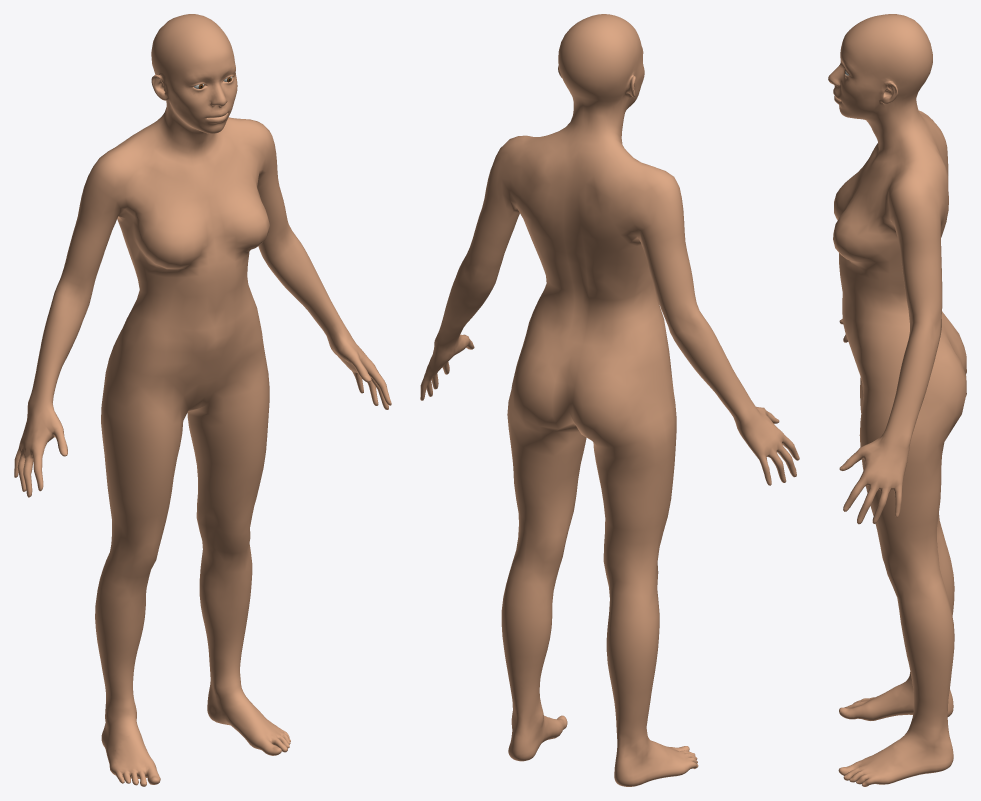
File: bodyFemale-realistic.glb
3 renders of one model, left to right at view 1: azimuth 30°, elevation 25°; view 2: azimuth 150°, elevation 25°; view 3: azimuth 270°, elevation 25°, orthographic.
Visible parts, largest first — view 1: GEO-body_female_realistic-torso, GEO-body_female_realistic-left_leg, GEO-body_female_realistic-right_leg, GEO-body_female_realistic-right_arm, GEO-body_female_realistic-head, GEO-body_female_realistic-left_arm; view 2: GEO-body_female_realistic-torso, GEO-body_female_realistic-right_leg, GEO-body_female_realistic-left_leg, GEO-body_female_realistic-right_arm, GEO-body_female_realistic-head, GEO-body_female_realistic-left_arm; view 3: GEO-body_female_realistic-torso, GEO-body_female_realistic-left_leg, GEO-body_female_realistic-left_arm, GEO-body_female_realistic-head, GEO-body_female_realistic-right_leg.
Part boxes in pixels (<box>): GEO-body_female_realistic-torso: <box>90,108,273,430</box>; GEO-body_female_realistic-left_leg: <box>187,387,290,755</box>; GEO-body_female_realistic-right_leg: <box>95,406,197,786</box>; GEO-body_female_realistic-right_arm: <box>14,148,130,497</box>; GEO-body_female_realistic-head: <box>151,14,237,130</box>; GEO-body_female_realistic-left_arm: <box>240,118,391,409</box>; GEO-body_female_realistic-torso: <box>486,112,676,447</box>; GEO-body_female_realistic-right_leg: <box>583,417,698,786</box>; GEO-body_female_realistic-left_leg: <box>501,402,586,761</box>; GEO-body_female_realistic-right_arm: <box>636,167,799,485</box>; GEO-body_female_realistic-head: <box>558,14,644,124</box>; GEO-body_female_realistic-left_arm: <box>420,135,525,400</box>; GEO-body_female_realistic-torso: <box>833,105,966,436</box>; GEO-body_female_realistic-left_leg: <box>838,417,954,786</box>; GEO-body_female_realistic-left_arm: <box>839,171,942,524</box>; GEO-body_female_realistic-head: <box>828,14,932,122</box>; GEO-body_female_realistic-right_leg: <box>839,379,954,720</box>.
Bounding box in the file's own units: 0.8422 × 1.64 × 0.2826.
